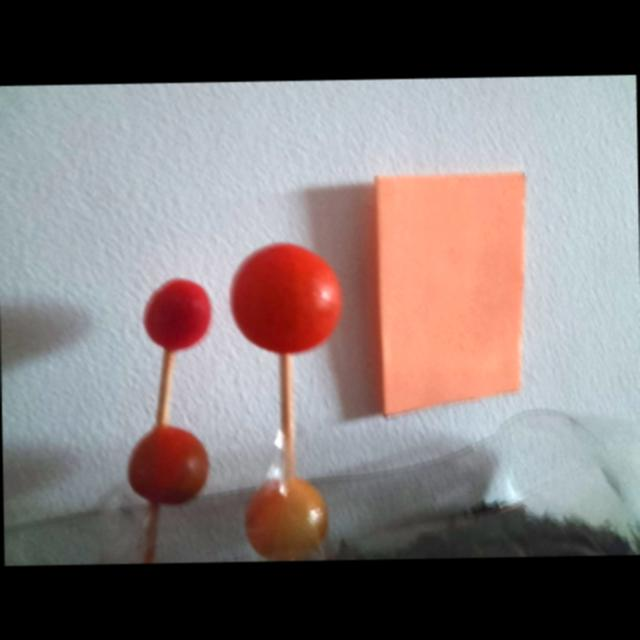card: (374, 172, 525, 415)
fruit_maturation: (245, 477, 327, 561)
fully_grown: (229, 243, 342, 353), (127, 425, 208, 504), (143, 278, 212, 351)
